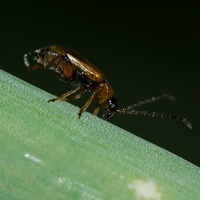insect: (23, 45, 192, 128)
